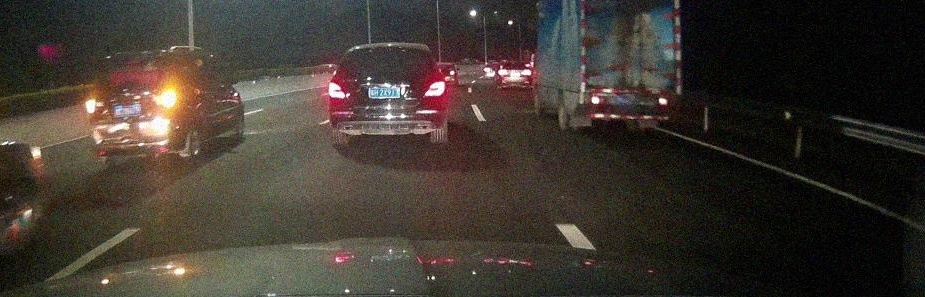L_light: (329, 83, 352, 99), (87, 99, 106, 113), (499, 70, 509, 75)
R_light: (152, 91, 176, 108), (419, 81, 446, 96), (521, 70, 530, 75)
T_light: (124, 58, 143, 65), (377, 47, 393, 52), (511, 61, 517, 63)
night-no: (329, 43, 447, 145), (499, 60, 531, 88)
night-right: (86, 50, 178, 167)
